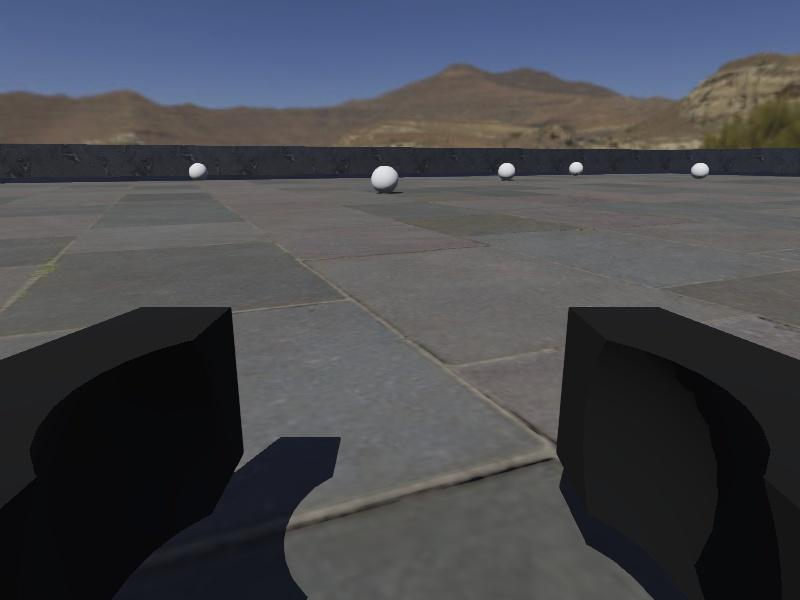white ball: (371, 164, 399, 193), (188, 161, 209, 182), (497, 160, 517, 181), (690, 162, 711, 179), (568, 160, 586, 176)
